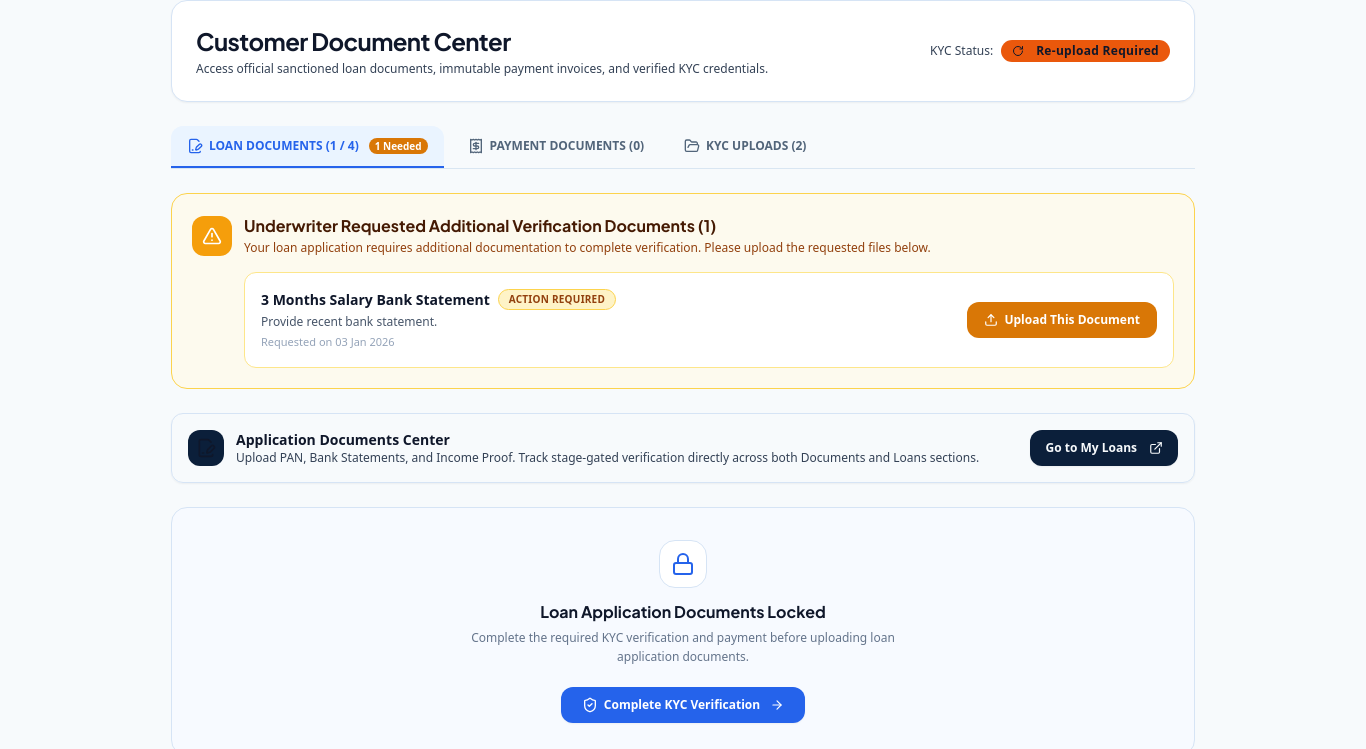
Test: Customer Profile & KYC Frontend Flow › CustomerDocuments Page › opens upload modal when clicking upload button
This screenshot has width=1366, height=749.
Switch to KYC tab
What coordinates should you click on to do the following:
click the button "KYC UPLOADS (2)"
I would click on:
 (745, 147)
Its box is [668,126,822,168].
(page scrolled)
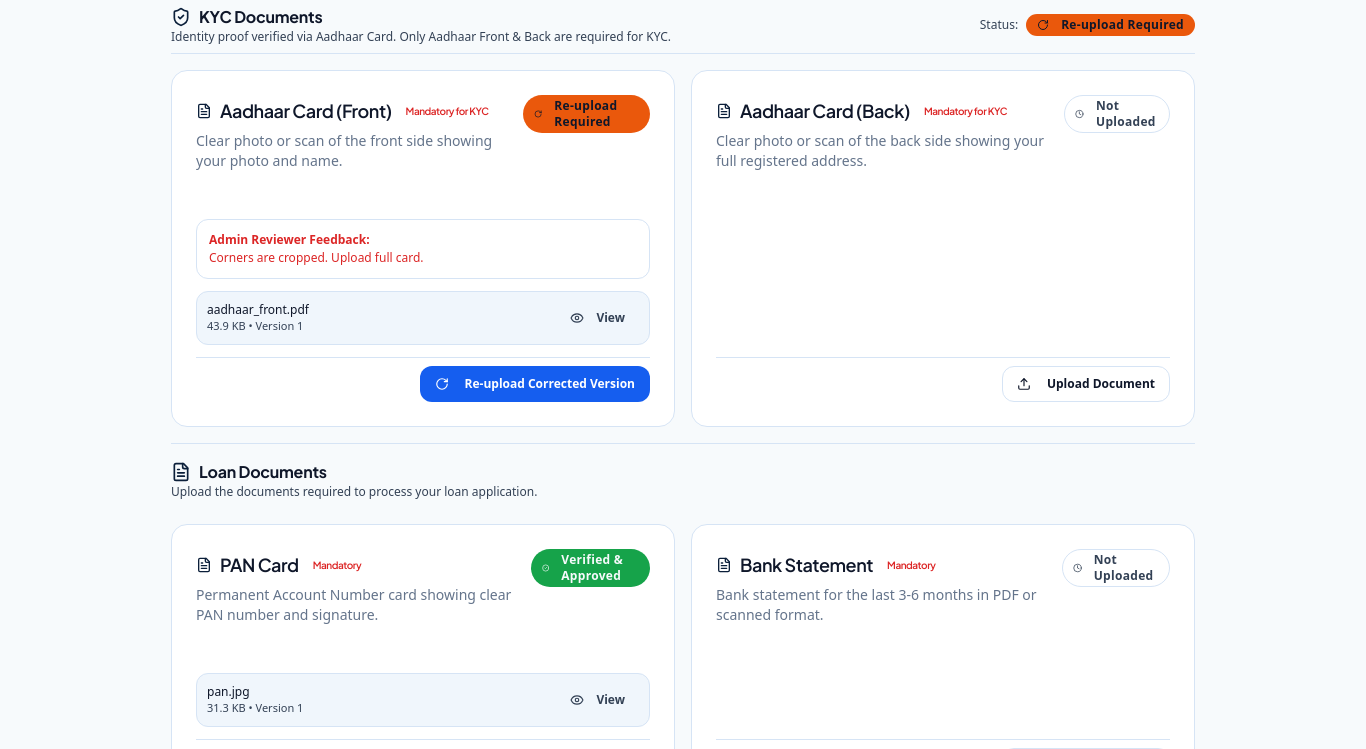
Expected: the button "Re-upload Corrected Version" is shown
What coordinates should you click on to do the following:
click the button "Re-upload Corrected Version"
I would click on:
 (535, 384)
Its box is [420,366,650,402].
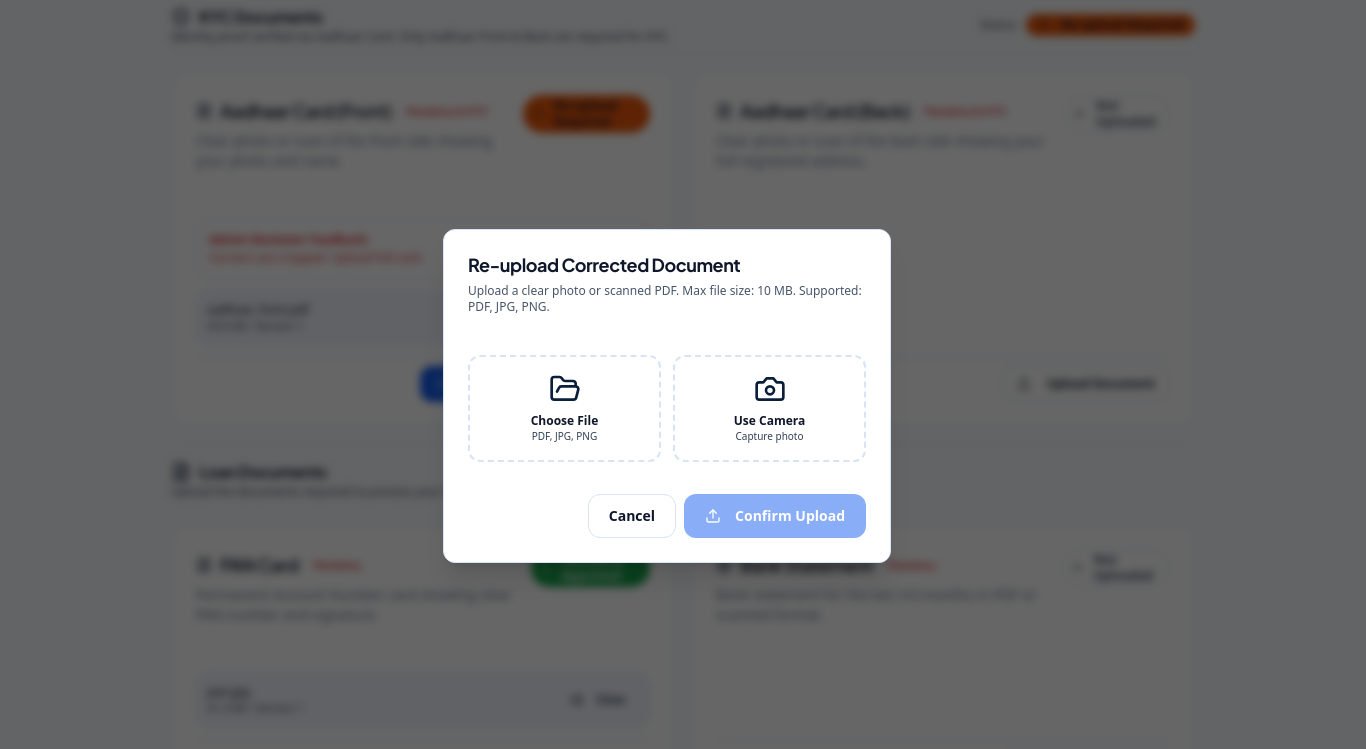
Expected: the heading "Re-upload Corrected Document" is shown, [468,253,740,276]
Expected: the text "Choose File" is shown, [531,413,598,429]
Expected: the text "Use Camera" is shown, [734,413,805,429]
